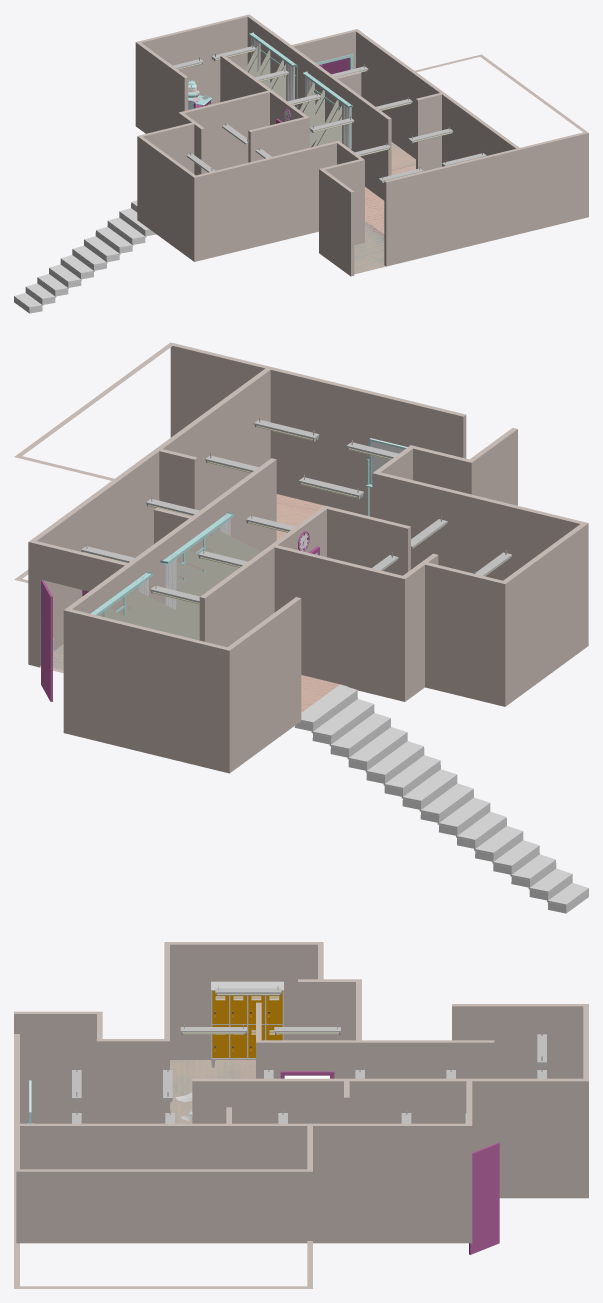
Rendered from room1.glb.
3 views of the same model, one above another, from view 1: azimuth 30°, elevation 25°; view 2: azimuth 150°, elevation 25°; view 3: azimuth 270°, elevation 25° (orthographic). The views are drawn at different scales.
Visible parts, largest first — view 1: MUR, MUR INTERNES, sol, GodRays-lumiere_volumetrique, Curtains; view 2: MUR, MUR INTERNES, Cube.1 (×8), GodRays-lumiere_volumetrique, sol, porte double ouverte-pourpre, Curtains; view 3: MUR, MUR INTERNES, porte double ouverte-pourpre, sol, Cube.2-Mat.5 (×3), neons2.1-gris.
Part boxes in pixels (bbox=[...]): MUR: bbox=[135, 14, 588, 266]; MUR INTERNES: bbox=[137, 55, 364, 276]; sol: bbox=[354, 142, 415, 274]; GodRays-lumiere_volumetrique: bbox=[245, 46, 341, 147]; Curtains: bbox=[251, 36, 350, 149]; MUR: bbox=[14, 342, 466, 773]; MUR INTERNES: bbox=[199, 428, 588, 706]; Cube.1 (×8): bbox=[301, 684, 473, 815]; GodRays-lumiere_volumetrique: bbox=[105, 528, 260, 640]; sol: bbox=[53, 494, 347, 712]; porte double ouverte-pourpre: bbox=[41, 580, 88, 701]; Curtains: bbox=[96, 515, 230, 615]; MUR: bbox=[14, 1004, 588, 1288]; MUR INTERNES: bbox=[14, 942, 494, 1123]; porte double ouverte-pourpre: bbox=[469, 1142, 499, 1254]; sol: bbox=[170, 1060, 255, 1123]; Cube.2-Mat.5 (×3): bbox=[212, 991, 282, 1023]; neons2.1-gris: bbox=[215, 986, 281, 996].
Bounding box in the file's own units: 15.78 × 6.31 × 13.34.
24 materials, 3 textured.
